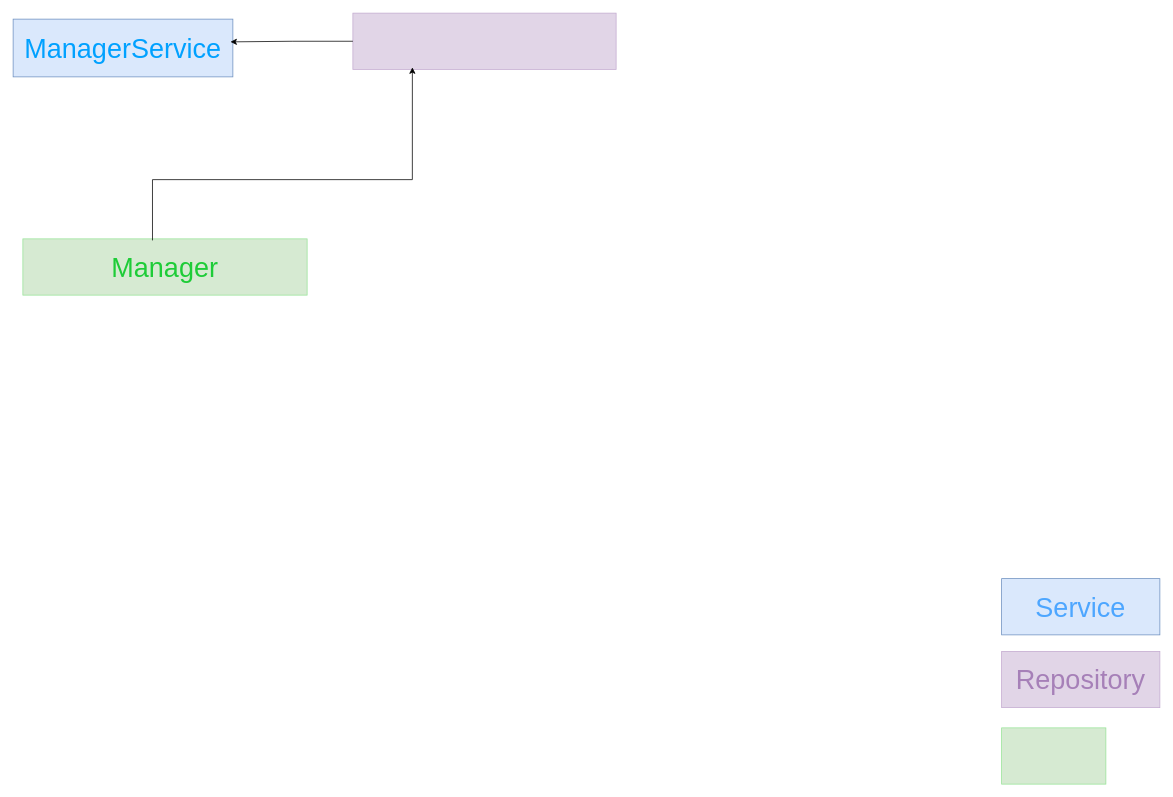
Some shapes in this 1173 by 797 pixel diagram are drawn without their labels. Here are the shapes that lost their labels. From the top down, the centre of each, then its label:
At (x=484, y=40): "ManagersRepository".
At (x=1053, y=755): "Entity".
